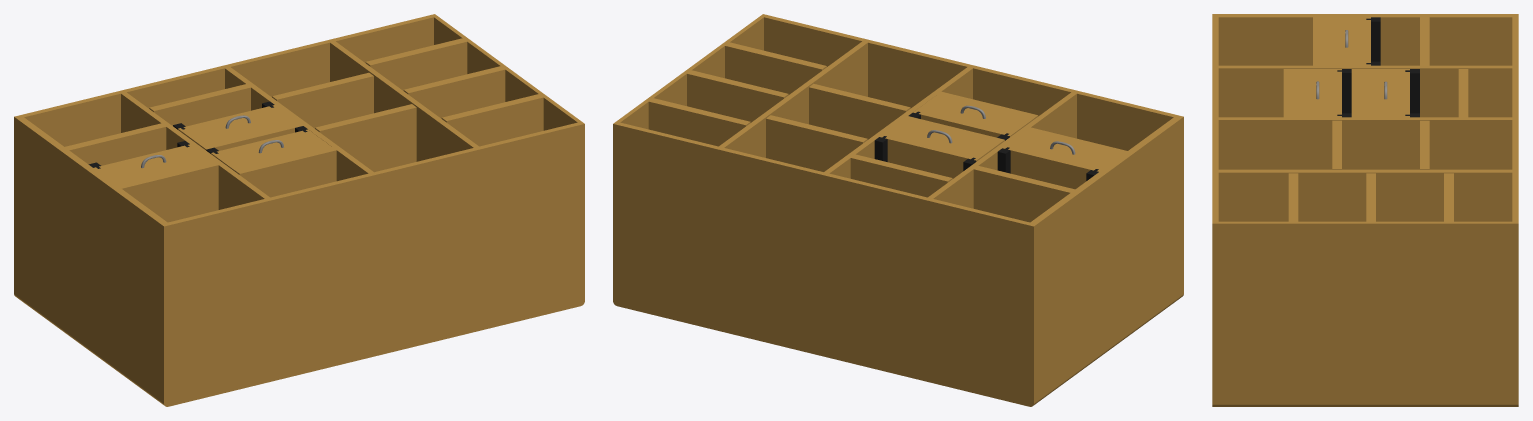
Rendered from Special_Drawers_Build v8.fbx.
3 renders of one model, left to right at view 1: azimuth 30°, elevation 25°; view 2: azimuth 150°, elevation 25°; view 3: azimuth 270°, elevation 25°, orthographic. The views are drawn at different scales.
Visible parts, largest first — view 1: Body1 (×14); view 2: Body1 (×14); view 3: Body1 (×17).
Boxes of the visible parts, x1,y1,x2,y2 form: Body1 (×14): (14,14,584,406); Body1 (×14): (613,14,1183,406); Body1 (×17): (1212,14,1518,406).
Bounding box in the file's own units: 51 × 22 × 31.5.
